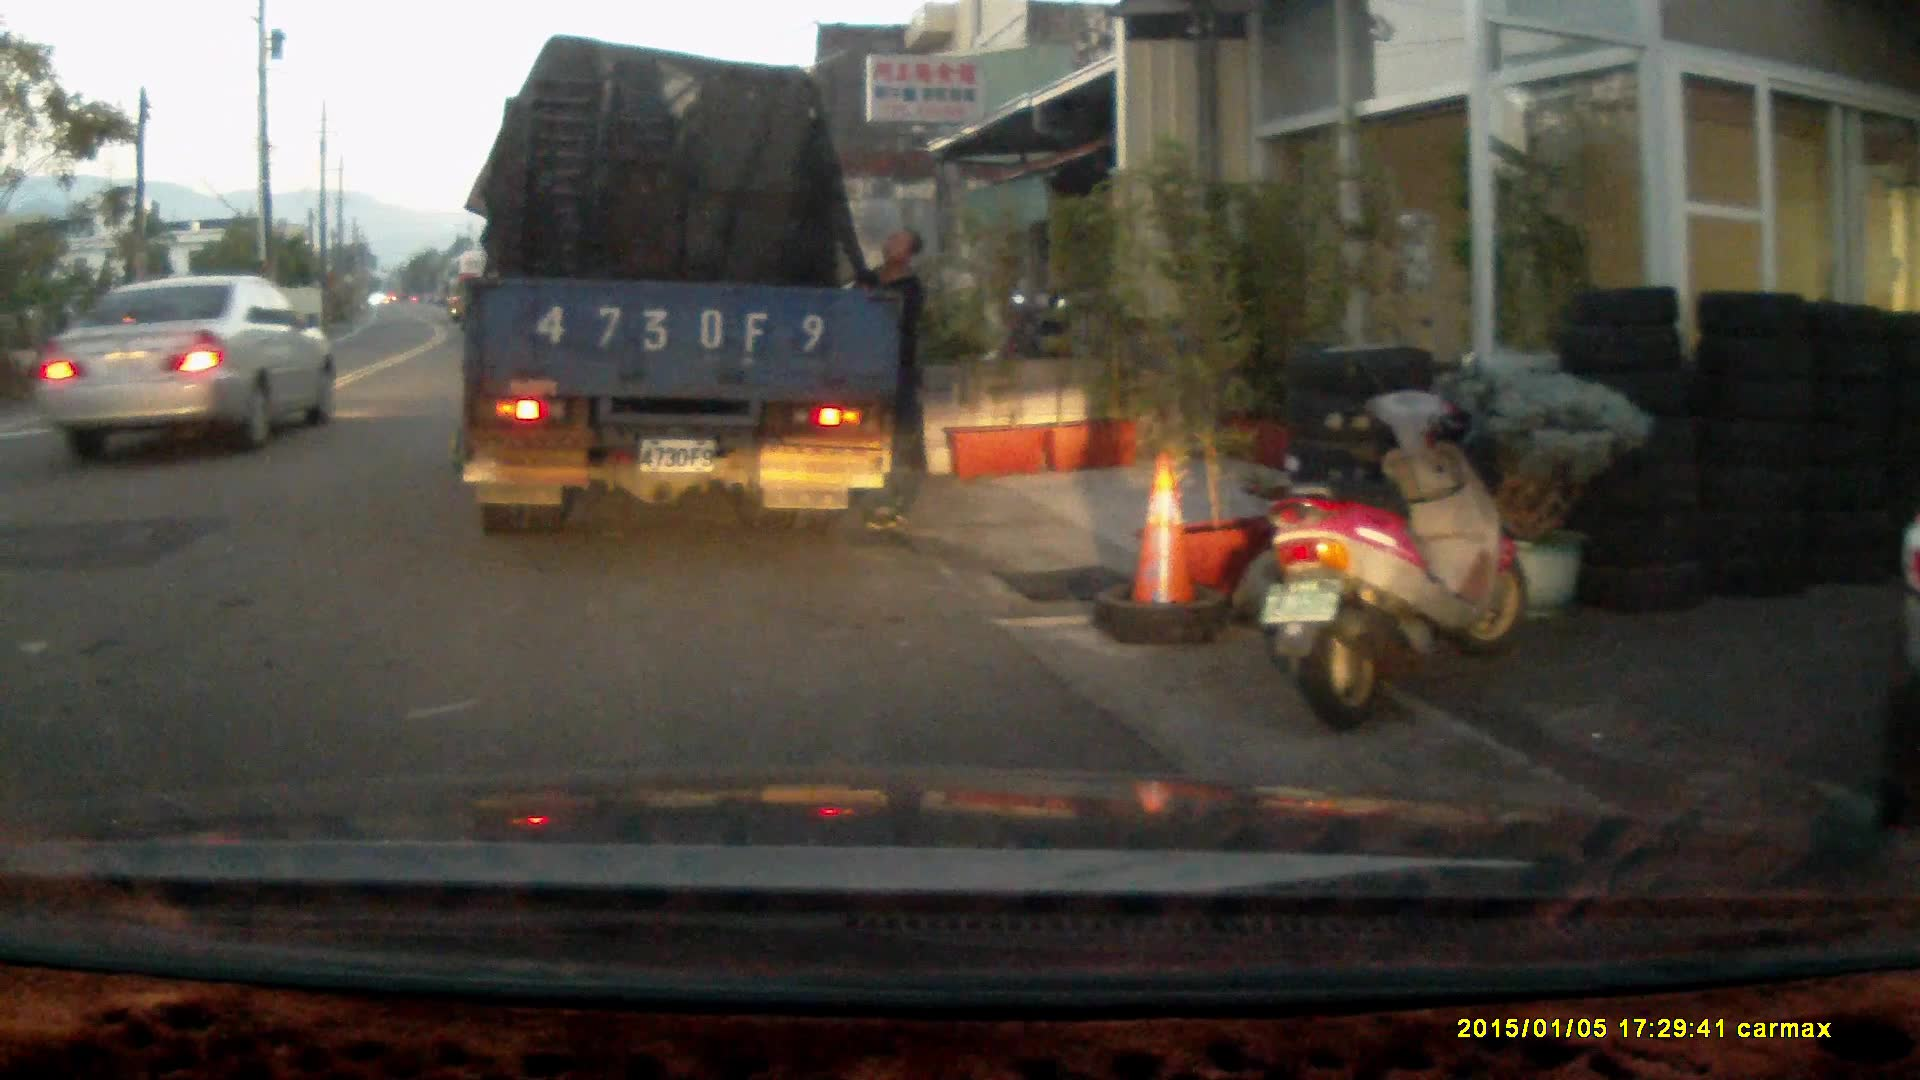pedestrian: (850, 227, 928, 531)
vehicle: (469, 41, 915, 532), (14, 274, 325, 457)
